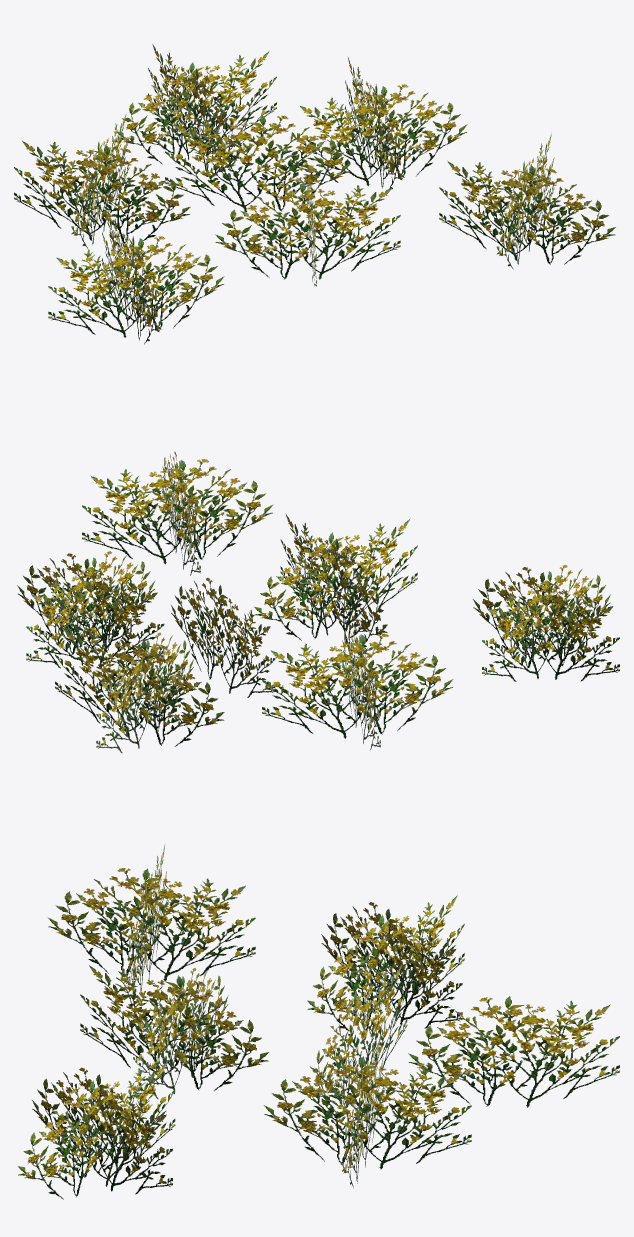
File: Strauch_02.obj
3 views of the same model, one above another, from view 1: azimuth 30°, elevation 25°; view 2: azimuth 150°, elevation 25°; view 3: azimuth 270°, elevation 25° (orthographic). The views are drawn at different scales.
Visible parts, largest first — view 1: Mesh8 Group9 Group1 Model, Mesh13 Group14 Group1 Model, Mesh12 Group13 Group1 Model, Mesh1 Group2 Group1 Model, Mesh9 Group10 Group1 Model, Mesh5 Group6 Group1 Model, Mesh3 Group4 Group1 Model, Mesh4 Group5 Group1 Model, Mesh6 Group7 Group1 Model, Mesh10 Group11 Group1 Model, Mesh11 Group12 Group1 Model, Mesh2 Group3 Group1 Model (+1 smaller); view 2: Mesh11 Group12 Group1 Model, Mesh2 Group3 Group1 Model, Mesh3 Group4 Group1 Model, Mesh7 Group8 Group1 Model, Mesh9 Group10 Group1 Model, Mesh5 Group6 Group1 Model, Mesh10 Group11 Group1 Model, Mesh6 Group7 Group1 Model, Mesh13 Group14 Group1 Model, Mesh8 Group9 Group1 Model, Mesh4 Group5 Group1 Model, Mesh12 Group13 Group1 Model (+1 smaller); view 3: Mesh4 Group5 Group1 Model, Mesh6 Group7 Group1 Model, Mesh10 Group11 Group1 Model, Mesh7 Group8 Group1 Model, Mesh12 Group13 Group1 Model, Mesh1 Group2 Group1 Model, Mesh11 Group12 Group1 Model, Mesh2 Group3 Group1 Model, Mesh13 Group14 Group1 Model, Mesh8 Group9 Group1 Model, Mesh5 Group6 Group1 Model, Mesh9 Group10 Group1 Model.
Part boxes in pixels (box(x1,y1,x2,y2)): Mesh8 Group9 Group1 Model: box(215, 182, 400, 279); Mesh13 Group14 Group1 Model: box(165, 114, 350, 212); Mesh12 Group13 Group1 Model: box(439, 160, 615, 264); Mesh1 Group2 Group1 Model: box(14, 140, 190, 244); Mesh9 Group10 Group1 Model: box(48, 236, 224, 337); Mesh5 Group6 Group1 Model: box(291, 84, 467, 186); Mesh3 Group4 Group1 Model: box(116, 50, 276, 164); Mesh4 Group5 Group1 Model: box(148, 44, 240, 173); Mesh6 Group7 Group1 Model: box(345, 57, 404, 189); Mesh10 Group11 Group1 Model: box(102, 208, 161, 344); Mesh11 Group12 Group1 Model: box(496, 132, 554, 269); Mesh2 Group3 Group1 Model: box(71, 114, 129, 249); Mesh11 Group12 Group1 Model: box(82, 459, 273, 564); Mesh2 Group3 Group1 Model: box(262, 633, 453, 738); Mesh3 Group4 Group1 Model: box(55, 627, 224, 746); Mesh7 Group8 Group1 Model: box(254, 518, 417, 640); Mesh9 Group10 Group1 Model: box(472, 567, 619, 681); Mesh5 Group6 Group1 Model: box(17, 553, 164, 667); Mesh10 Group11 Group1 Model: box(482, 565, 610, 681); Mesh6 Group7 Group1 Model: box(26, 551, 155, 668); Mesh13 Group14 Group1 Model: box(171, 578, 275, 697); Mesh8 Group9 Group1 Model: box(280, 513, 387, 647); Mesh4 Group5 Group1 Model: box(96, 632, 193, 753); Mesh12 Group13 Group1 Model: box(161, 451, 200, 575); Mesh4 Group5 Group1 Model: box(408, 996, 619, 1107); Mesh6 Group7 Group1 Model: box(263, 1055, 471, 1169); Mesh10 Group11 Group1 Model: box(47, 868, 255, 981); Mesh7 Group8 Group1 Model: box(80, 965, 269, 1091); Mesh12 Group13 Group1 Model: box(17, 1060, 175, 1199); Mesh1 Group2 Group1 Model: box(307, 894, 464, 1031); Mesh11 Group12 Group1 Model: box(32, 1067, 172, 1194); Mesh2 Group3 Group1 Model: box(321, 902, 462, 1028); Mesh13 Group14 Group1 Model: box(309, 962, 407, 1112); Mesh8 Group9 Group1 Model: box(133, 968, 228, 1099); Mesh5 Group6 Group1 Model: box(341, 1031, 383, 1188); Mesh9 Group10 Group1 Model: box(126, 844, 166, 998).
Bounding box in the file's own units: 444 × 100 × 402.
